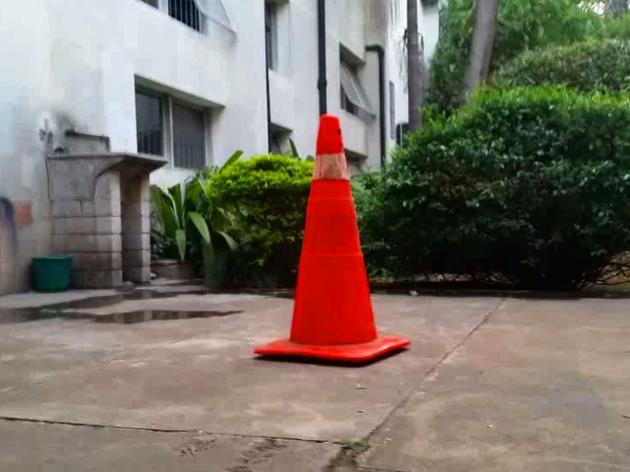0 cone: (252, 113, 410, 358)
